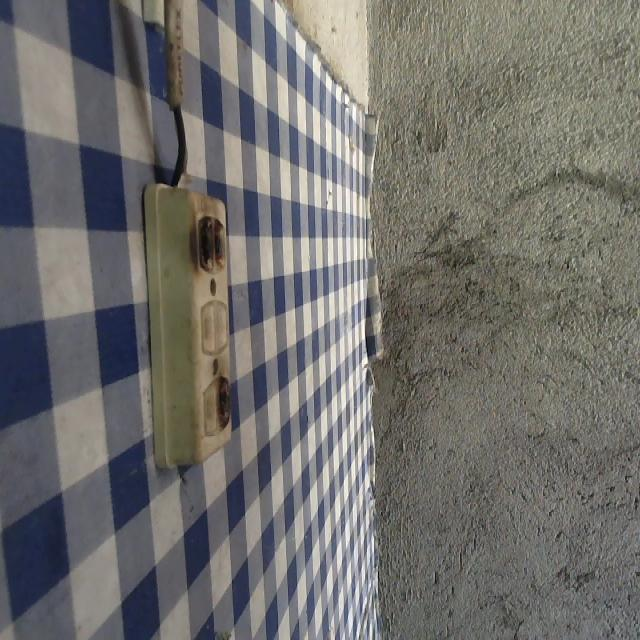-: (190, 212, 231, 273), (215, 372, 237, 436)
